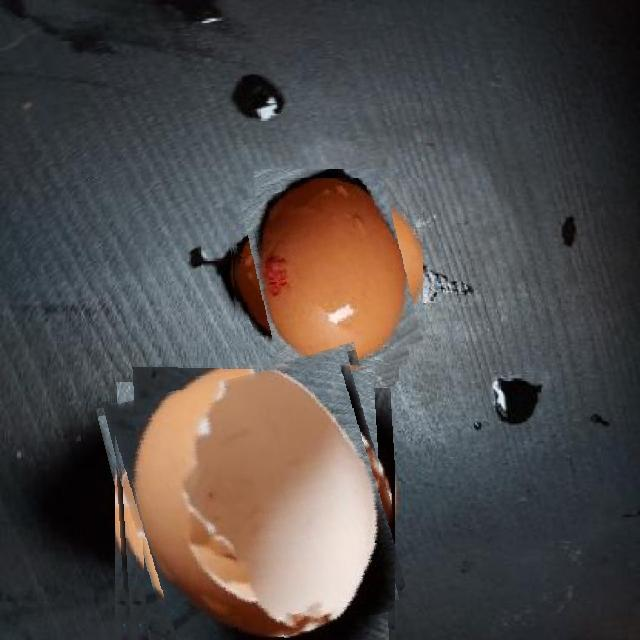biodegradable: (110, 360, 395, 640), (229, 178, 423, 372)
